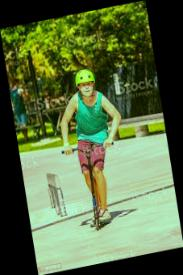helmet: (49, 61, 139, 236)
